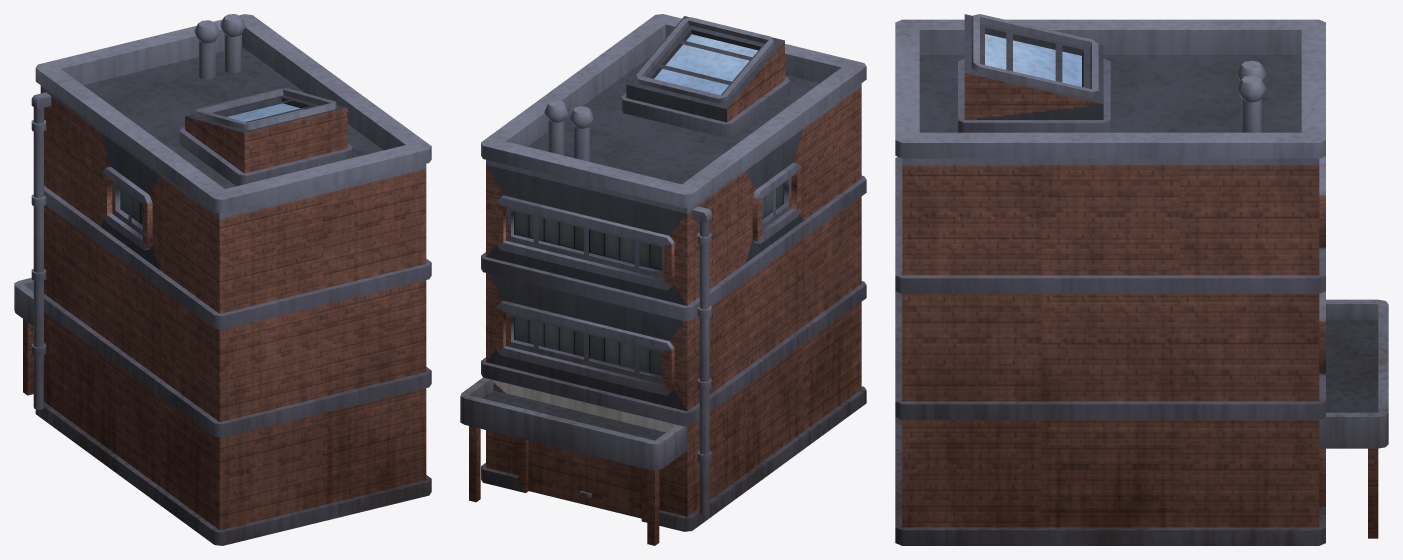
File: building-d-brown.glb
3 views of the same model, side by side, from view 1: azimuth 30°, elevation 25°; view 2: azimuth 150°, elevation 25°; view 3: azimuth 270°, elevation 25° (orthographic). The views are drawn at different scales.
Visible parts, largest first — view 1: building-d; view 2: building-d; view 3: building-d.
Part boxes in pixels (<box>): building-d: <box>14,14,431,545</box>; building-d: <box>460,14,866,545</box>; building-d: <box>895,14,1388,545</box>.
Size of the model in its own units: 0.8836 by 1.41 by 1.42.
1 material, 1 textured.
